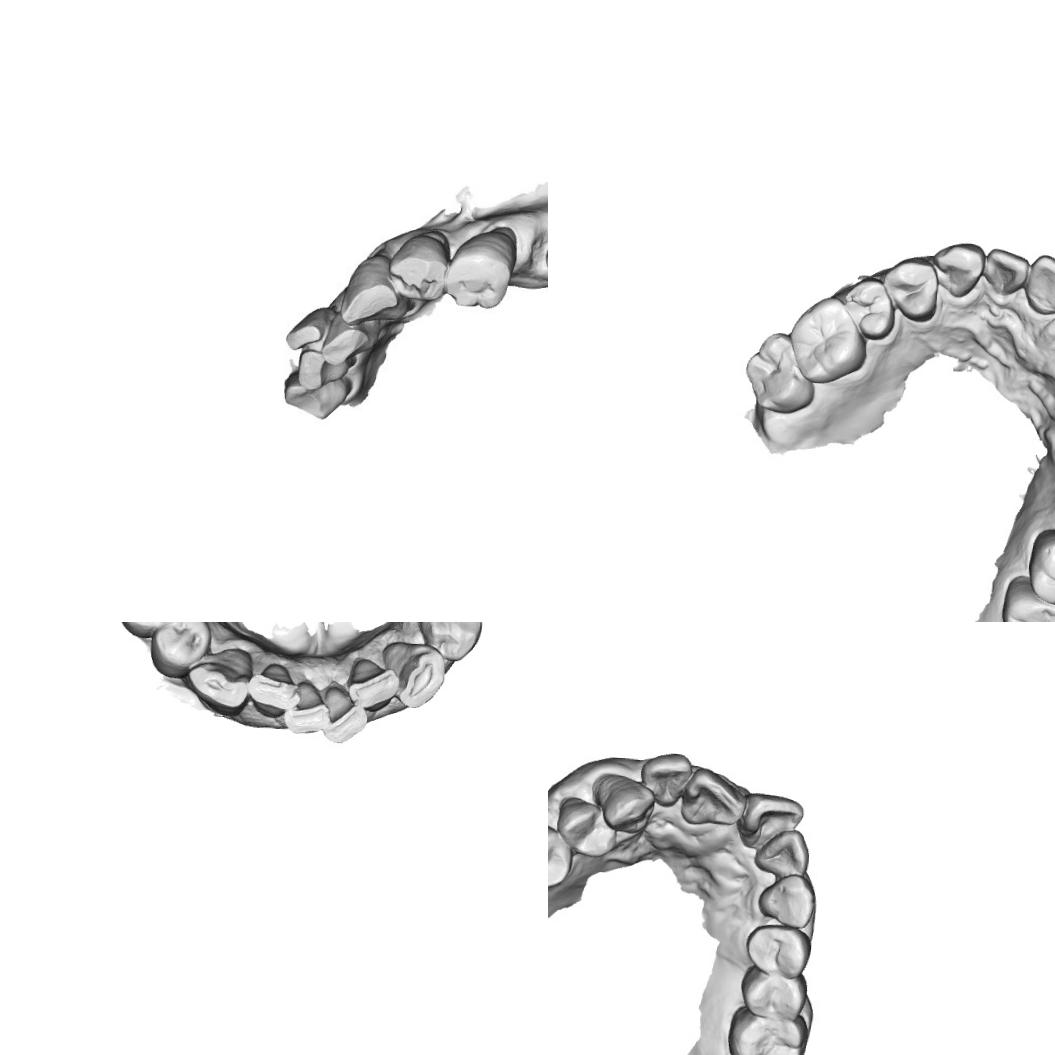canine: (342, 254, 400, 330), (186, 648, 252, 714), (589, 770, 656, 834), (384, 640, 442, 709), (755, 870, 818, 928), (932, 239, 986, 300)
incisor: (678, 764, 749, 830), (273, 372, 364, 423), (736, 790, 805, 852), (319, 674, 370, 746), (319, 306, 374, 368), (752, 826, 812, 882), (638, 750, 693, 809), (248, 662, 304, 716), (344, 656, 400, 710), (292, 349, 360, 393), (283, 678, 330, 737), (982, 246, 1032, 297), (1023, 251, 1055, 316), (276, 314, 324, 354)
molar: (787, 294, 870, 388), (742, 328, 818, 416), (724, 1002, 810, 1055), (996, 572, 1055, 622), (1024, 524, 1055, 611)
premolar: (446, 226, 521, 304), (392, 233, 454, 312), (737, 962, 809, 1023), (554, 794, 619, 859), (880, 254, 940, 324), (742, 922, 813, 980), (844, 278, 898, 342), (147, 622, 208, 676), (416, 622, 483, 665), (548, 818, 575, 890), (113, 622, 182, 637)
